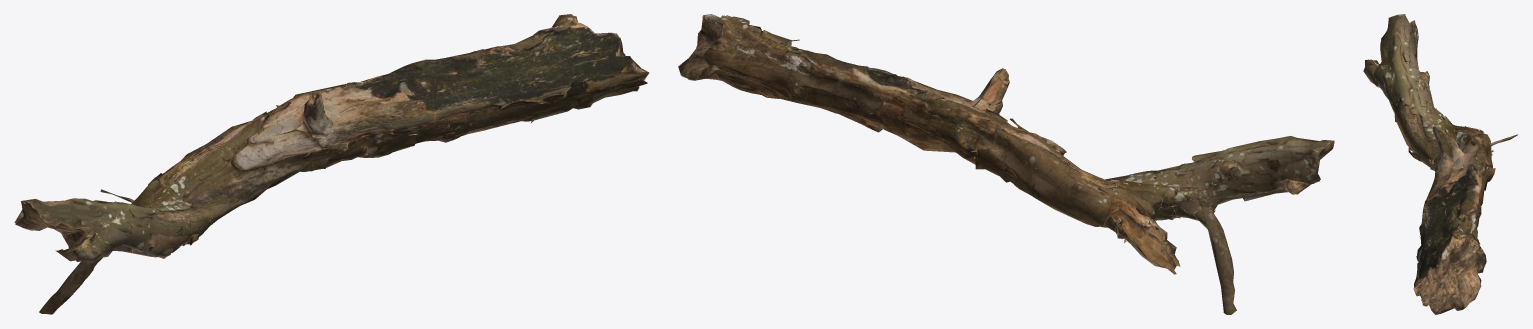
The model's file is log_dead2.glb.
3 renders of one model, left to right at view 1: azimuth 30°, elevation 25°; view 2: azimuth 150°, elevation 25°; view 3: azimuth 270°, elevation 25°, orthographic. The views are drawn at different scales.
Visible parts, largest first — view 1: dead_tree_trunk_02; view 2: dead_tree_trunk_02; view 3: dead_tree_trunk_02.
Boxes of the visible parts, box(x1,y1,x2,y2) form: dead_tree_trunk_02: box(14, 14, 649, 314); dead_tree_trunk_02: box(678, 14, 1334, 314); dead_tree_trunk_02: box(1363, 14, 1518, 314).
Size of the model in its own units: 4.05 by 1.06 by 1.05.
1 material, 1 textured.
